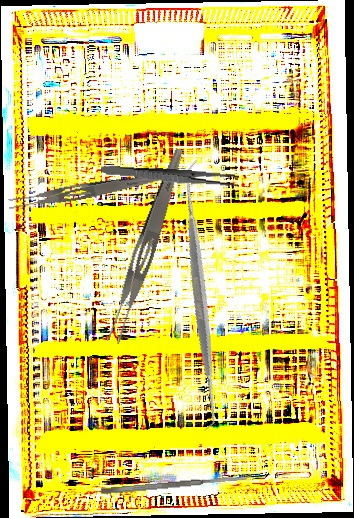Dressing Forceps: (102, 144, 188, 347), (6, 167, 160, 214), (100, 164, 240, 188)
Spatula Surgical: (63, 159, 338, 432), (100, 474, 248, 496)
